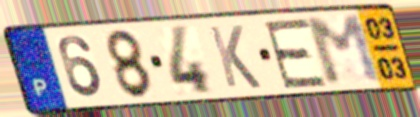4: (168, 23, 215, 97)
6: (56, 34, 105, 100)
8: (104, 27, 157, 101)
E: (260, 16, 330, 91)
K: (206, 24, 264, 91)
M: (302, 12, 388, 89)
